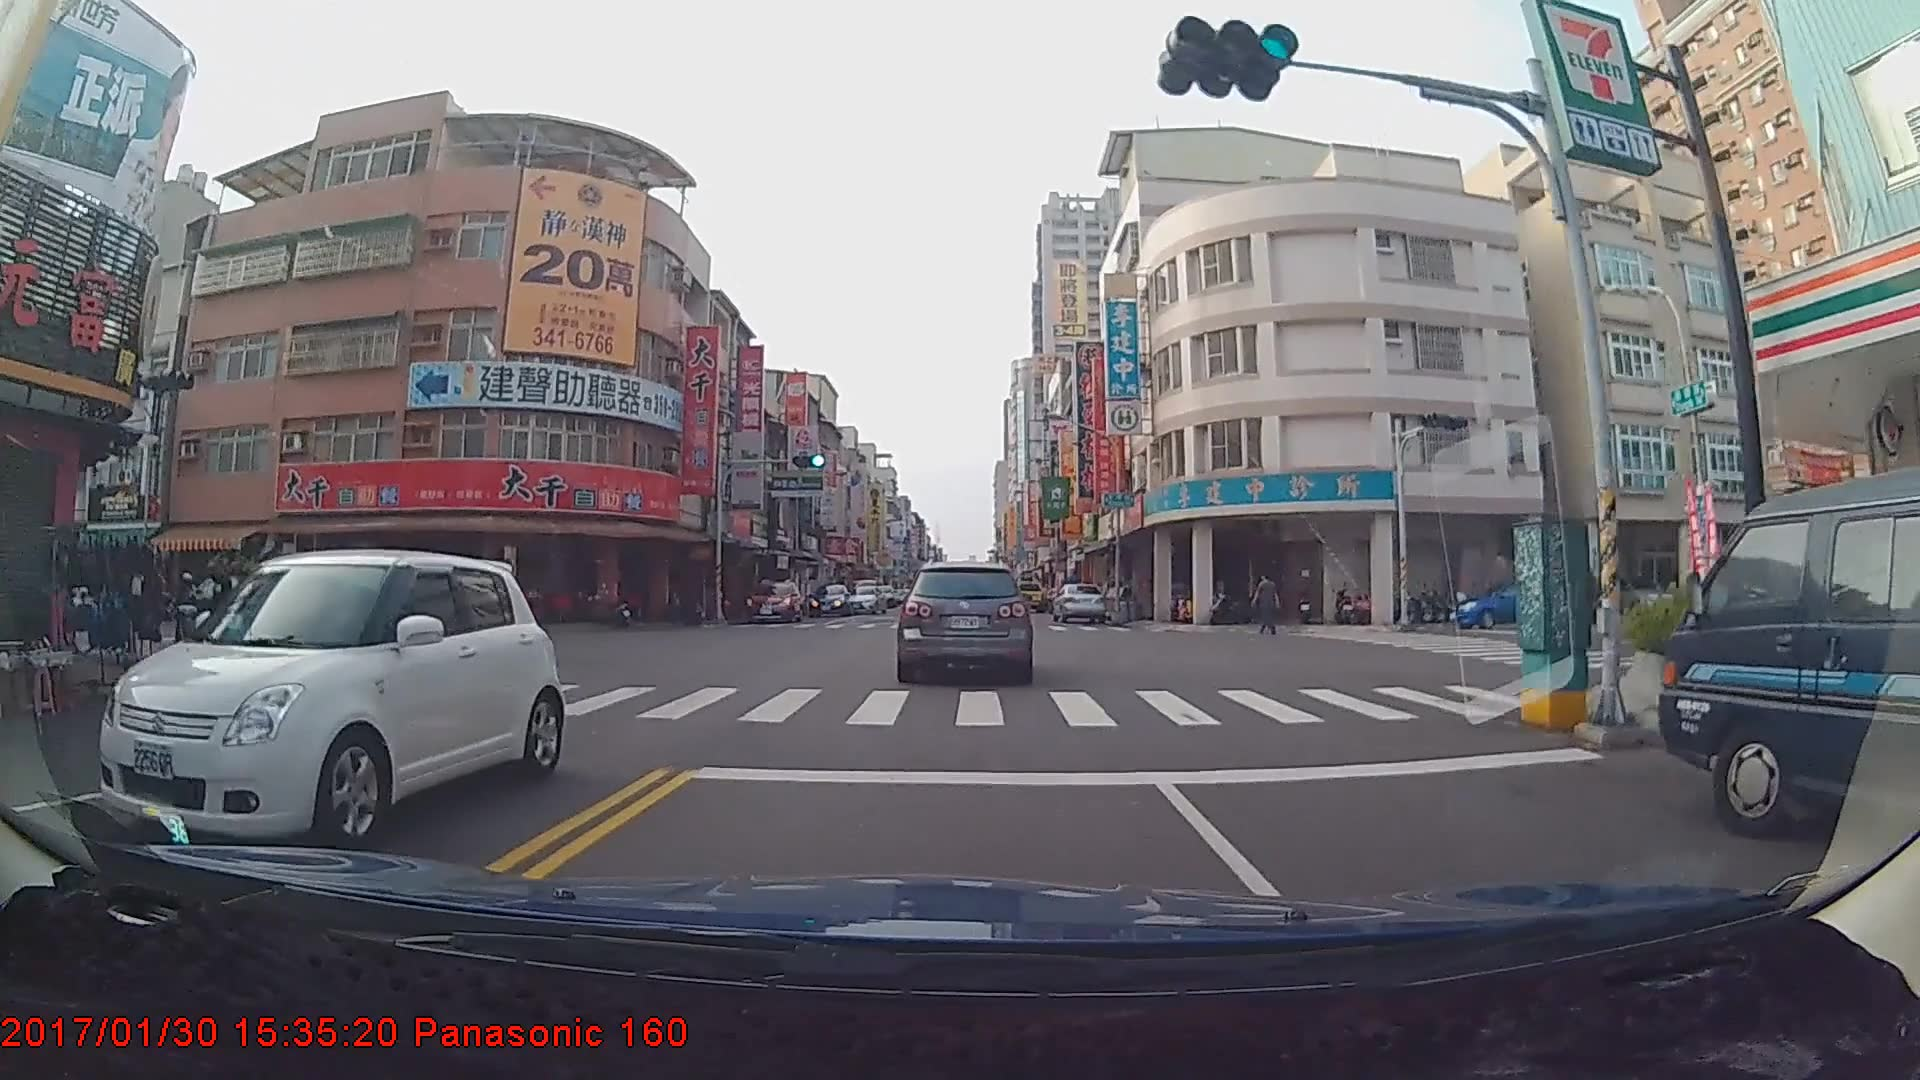pedestrian: (1253, 574, 1282, 640)
rider: (167, 566, 204, 667)
vehicle: (96, 539, 569, 851), (1654, 448, 1919, 897), (896, 563, 1032, 684), (1447, 579, 1578, 632), (748, 577, 803, 624), (1050, 580, 1107, 623), (807, 581, 852, 614), (842, 583, 885, 612), (1009, 581, 1045, 615)
